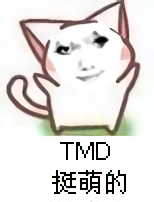dragon: (54, 33, 111, 82)
